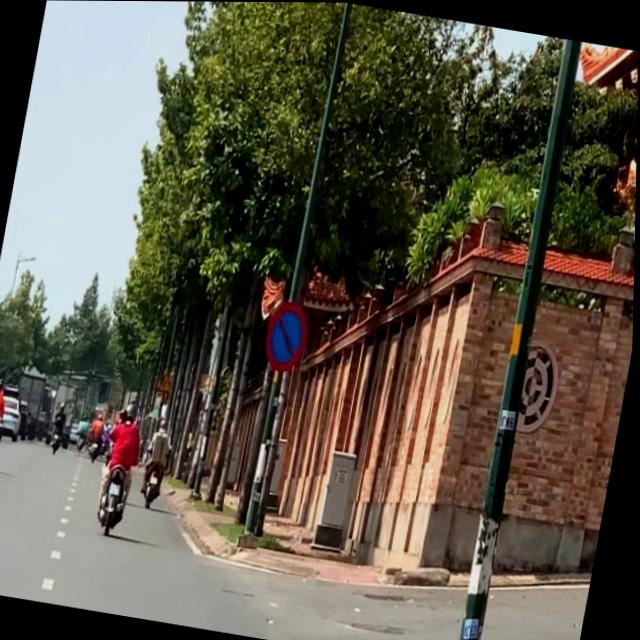Cam do xe: (260, 295, 316, 374)
cho ngoat nguy hiem vong ben phai: (157, 370, 176, 396)
